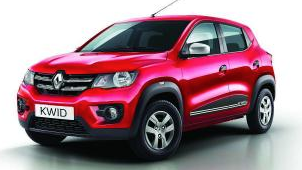car: (11, 13, 279, 166)
